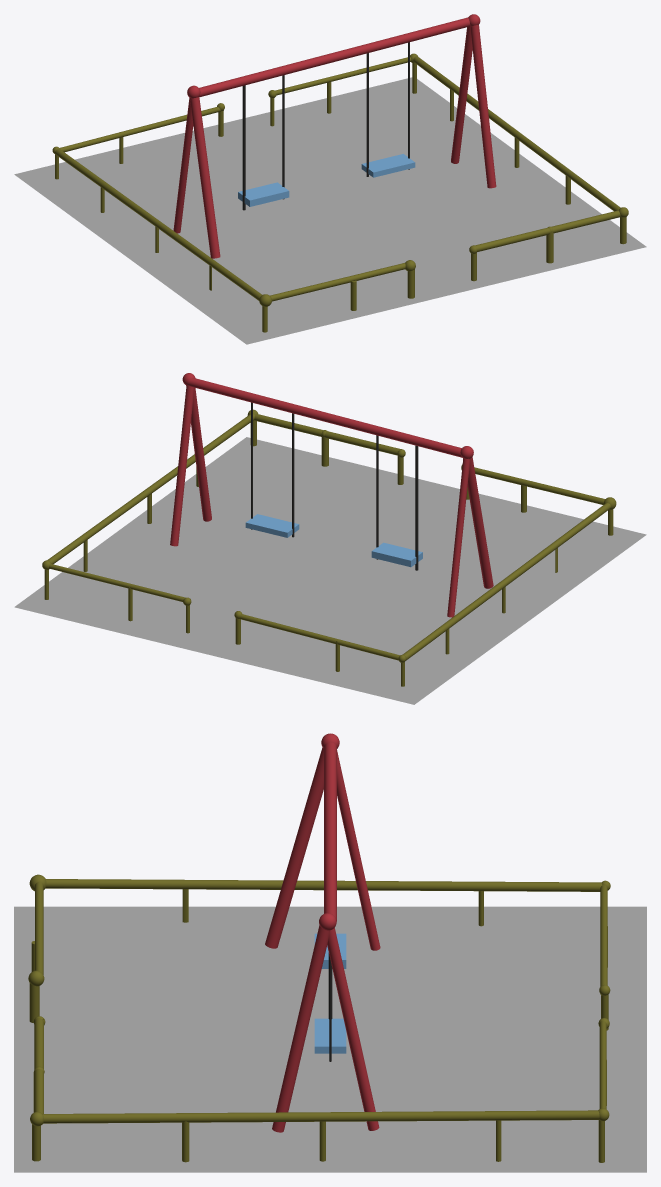
Rendered from buuun.fbx.
3 renders of one model, top to bottom at view 1: azimuth 30°, elevation 25°; view 2: azimuth 150°, elevation 25°; view 3: azimuth 270°, elevation 25°, orthographic. The views are drawn at different scales.
Visible parts, largest first — view 1: pPlane1, pCylinder3, pCylinder14, pCylinder11, pCylinder4, pCylinder1, pCylinder2, pCylinder10, pCylinder5, pCylinder13, pCylinder15, pCube1 (+3 smaller); view 2: pPlane1, pCylinder3, pCylinder14, pCylinder11, pCylinder2, pCylinder4, pCylinder5, pCylinder1, pCylinder10, pCylinder15, pCylinder13, pCylinder12 (+3 smaller); view 3: pPlane1, pCylinder11, pCylinder14, pCylinder4, pCylinder1, pCylinder2, pCylinder3, pCylinder5, pCube2, pCylinder10, pCylinder13, pCylinder15 (+1 smaller).
Part boxes in pixels (x1,y1,x2,y2): pPlane1: [14, 77, 646, 344]; pCylinder3: [192, 17, 470, 98]; pCylinder14: [54, 149, 261, 300]; pCylinder11: [413, 56, 620, 211]; pCylinder4: [190, 97, 220, 258]; pCylinder1: [470, 24, 496, 188]; pCylinder2: [451, 25, 472, 163]; pCylinder10: [474, 210, 620, 251]; pCylinder5: [173, 98, 193, 233]; pCylinder13: [270, 263, 405, 301]; pCylinder15: [59, 106, 223, 152]; pCube1: [238, 182, 289, 206]; pPlane1: [14, 437, 646, 704]; pCylinder3: [188, 378, 469, 459]; pCylinder14: [398, 503, 610, 662]; pCylinder11: [47, 414, 254, 564]; pCylinder2: [170, 385, 194, 546]; pCylinder4: [463, 457, 493, 588]; pCylinder5: [447, 458, 469, 617]; pCylinder1: [186, 385, 211, 521]; pCylinder10: [254, 414, 400, 455]; pCylinder15: [239, 614, 399, 660]; pCylinder13: [474, 467, 605, 504]; pCylinder12: [49, 564, 190, 601]; pPlane1: [14, 906, 646, 1172]; pCylinder11: [43, 1110, 599, 1123]; pCylinder14: [45, 879, 602, 891]; pCylinder4: [265, 747, 323, 948]; pCylinder1: [272, 925, 329, 1132]; pCylinder2: [327, 927, 379, 1130]; pCylinder3: [324, 742, 336, 921]; pCylinder5: [337, 750, 380, 950]; pCube2: [314, 1018, 346, 1053]; pCylinder10: [34, 1018, 43, 1124]; pCylinder13: [35, 882, 43, 974]; pCylinder15: [600, 885, 607, 995].
Bounding box in the file's own units: 23.51 × 9.28 × 23.66.
